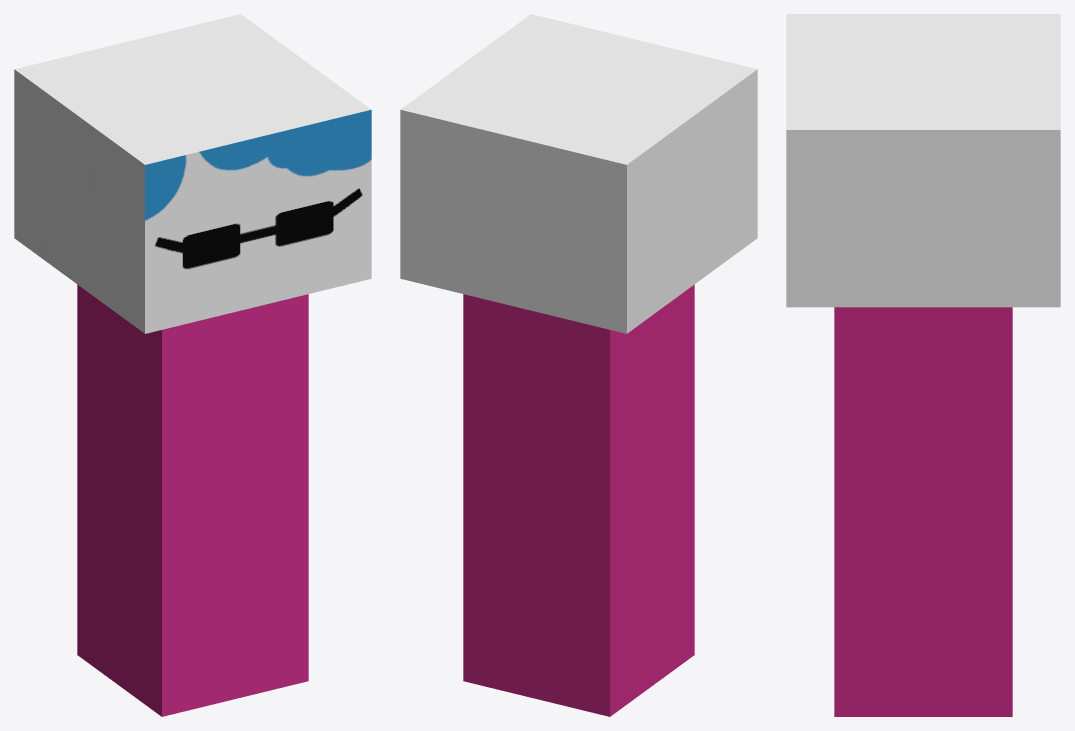
The model's file is tricky ted.fbx.
The picture shows the model from 3 angles, left to right: view 1: azimuth 30°, elevation 25°; view 2: azimuth 150°, elevation 25°; view 3: azimuth 270°, elevation 25°; orthographic projection. The views are drawn at different scales.
Parts seen in each view (by area): view 1: pCube28; view 2: pCube28; view 3: pCube28.
Part boxes in pixels (<box>): pCube28: <box>14,14,371,716</box>; pCube28: <box>400,14,757,716</box>; pCube28: <box>786,14,1060,716</box>.
Bounding box in the file's own units: 2.45 × 5.97 × 2.45.
